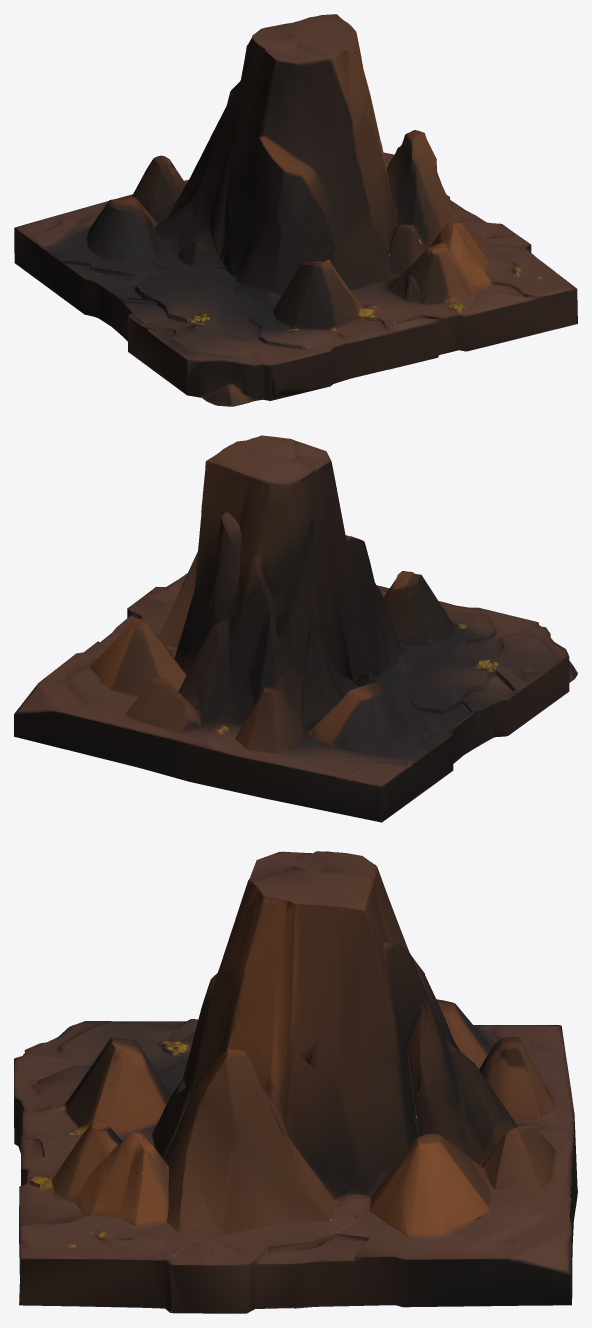
Rendered from basalt_dirt_base.glb.
3 views of the same model, one above another, from view 1: azimuth 30°, elevation 25°; view 2: azimuth 150°, elevation 25°; view 3: azimuth 270°, elevation 25° (orthographic). The views are drawn at different scales.
Parts seen in each view (by area): view 1: node_0; view 2: node_0; view 3: node_0.
Boxes of the visible parts, x1,y1,x2,y2 form: node_0: (14,14,577,406); node_0: (14,435,577,822); node_0: (14,851,577,1313).
Bounding box in the file's own units: 0.8114 × 0.5078 × 0.7915.
1 material, 1 textured.
